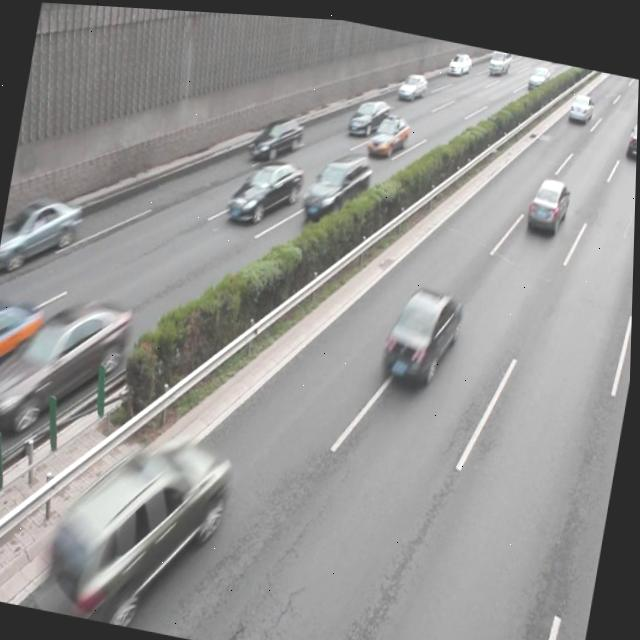car: (47, 410, 236, 640), (0, 277, 138, 445), (380, 274, 467, 388), (0, 185, 87, 284), (227, 149, 306, 230), (300, 139, 375, 224), (0, 291, 50, 400), (525, 166, 573, 232), (249, 106, 304, 163), (365, 103, 413, 158), (347, 89, 390, 139)
